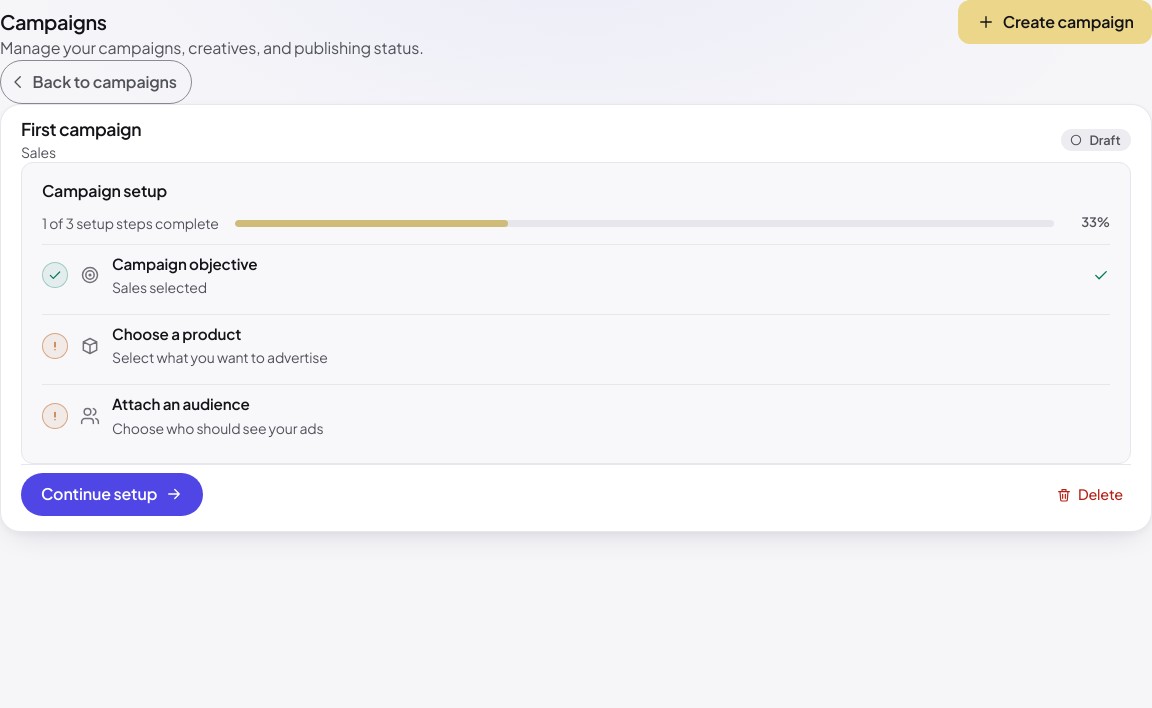
CampaignsSection › reveals the create form via the Create campaign button once a campaign already exists
Expected: the heading "First campaign" is shown, [21, 119, 141, 140]
Click the button "Create campaign".
click(1055, 22)  # box [958, 0, 1151, 44]
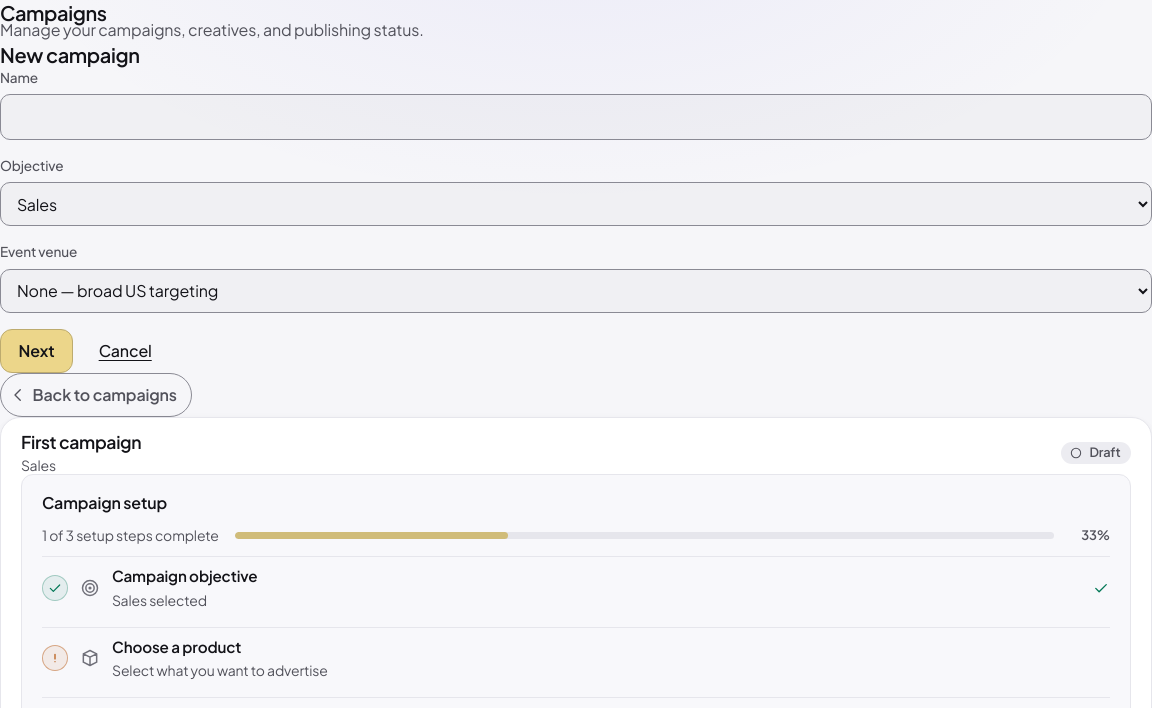
Expected: the heading "New campaign" is shown, [0, 42, 140, 67]
Expected: the button "Cancel" is shown, [89, 329, 161, 373]
